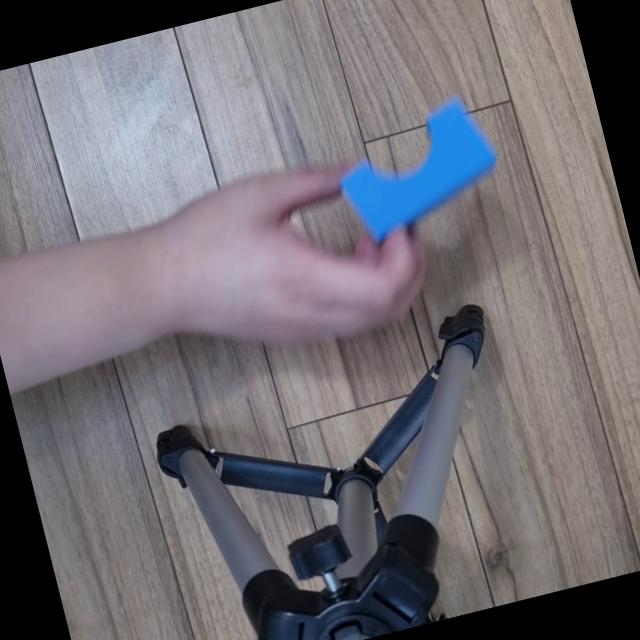block: (322, 86, 516, 250)
hand: (134, 148, 455, 396)
